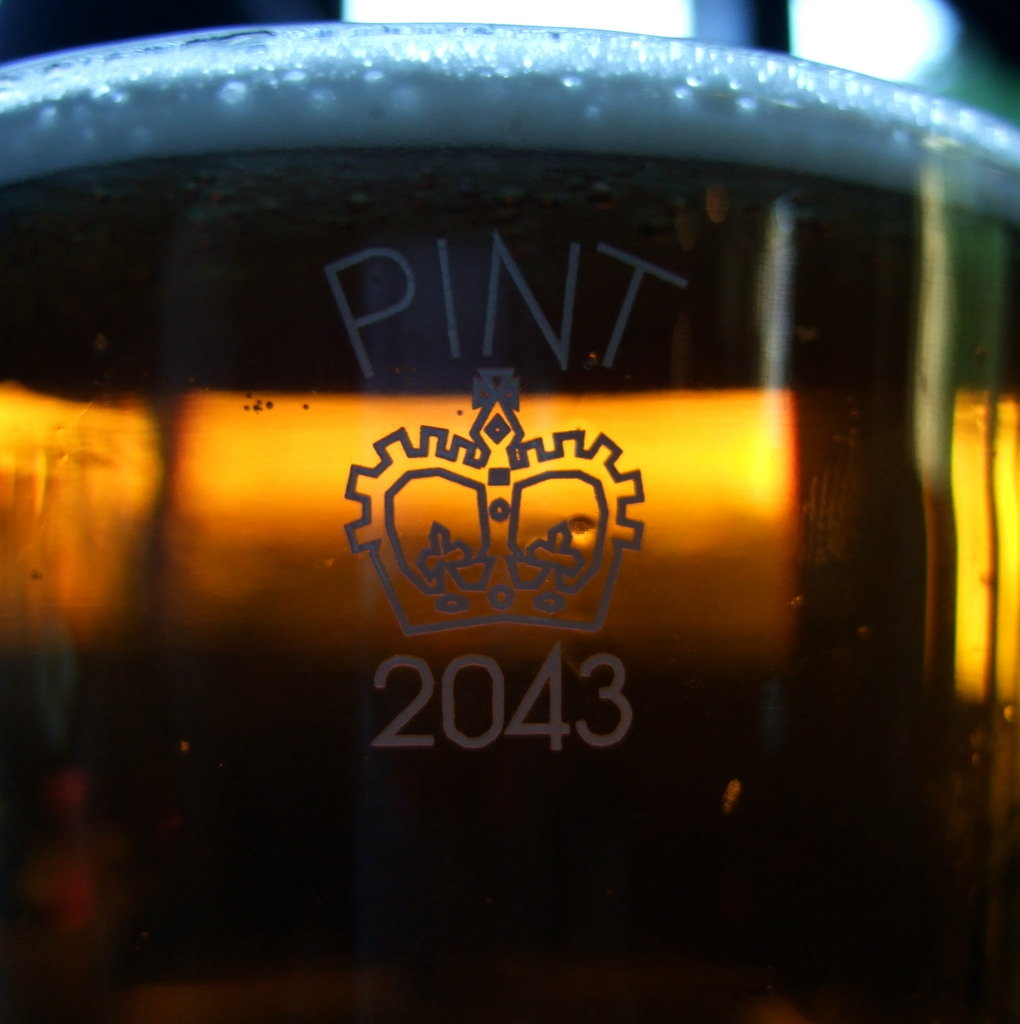Beer: (0, 28, 1019, 1023)
